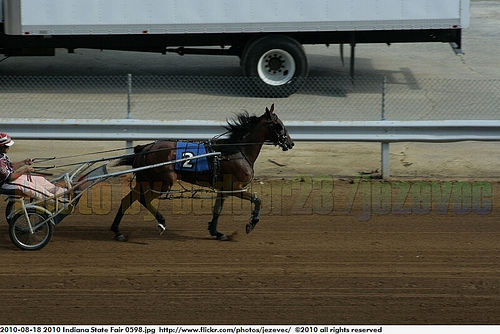horse: (109, 104, 295, 243)
